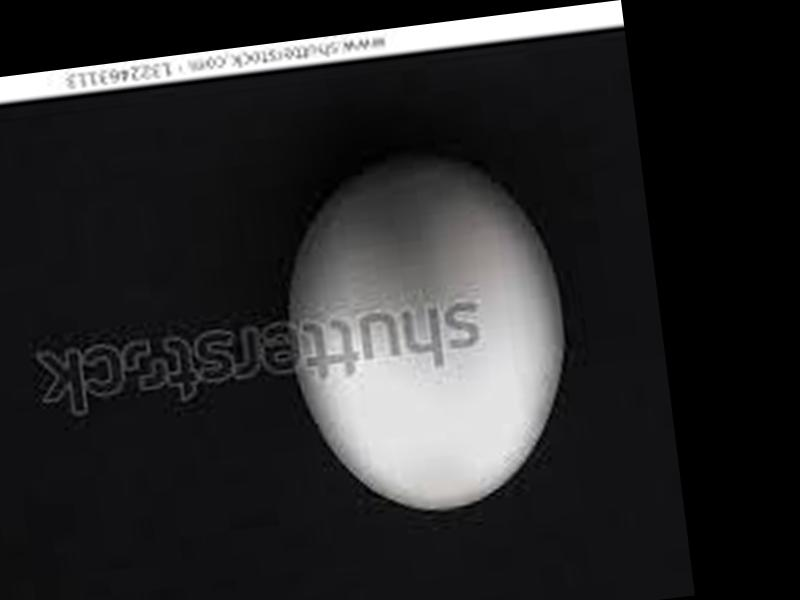Eggs: (277, 142, 586, 528)
